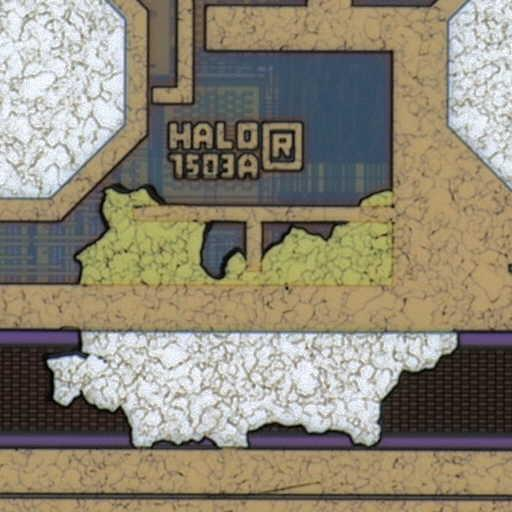BLOCK ETCH: (41, 179, 465, 458)
